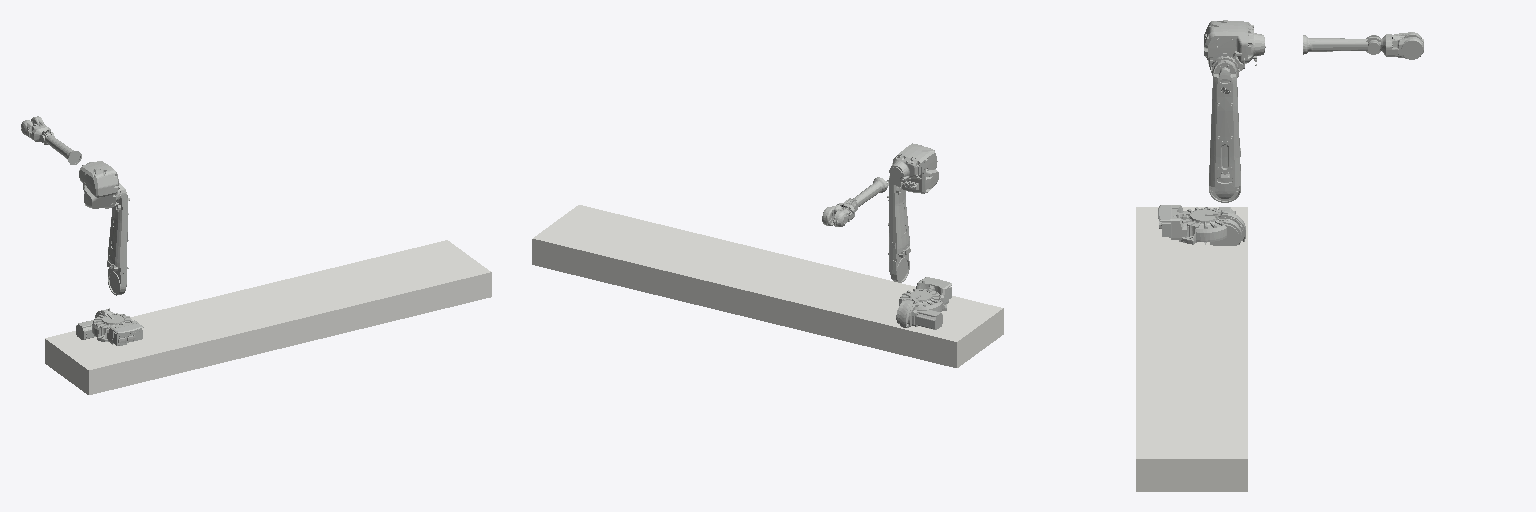
URDF robot description (abb_on_axis):
<?xml version="1.0" ?>
<!-- =================================================================================== -->
<!-- |    This document was autogenerated by xacro from abb_on_axis.xacro              | -->
<!-- |    EDITING THIS FILE BY HAND IS NOT RECOMMENDED                                 | -->
<!-- =================================================================================== -->
<robot name="abb_on_axis">
  <!-- Conversion were obtained from http://www.e-paint.co.uk/Lab_values.asp
       unless otherwise stated. -->
  <!-- Conversion were obtained from http://www.e-paint.co.uk/Lab_values.asp
       unless otherwise stated. -->
  <link name="axis">
    <inertial>
      <origin xyz="0.0 0.0 0.0"/>
      <mass value="120"/>
      <inertia ixx="-4.98000" ixy="-0.00000" ixz="2.70000" iyy="-5.95200" iyz="-0.00000" izz="0.82800"/>
    </inertial>
    <visual>
      <geometry>
        <mesh filename="package://princeton_cell/meshes/visual/axis.stl"/>
      </geometry>
      <material name="">
        <color rgba="0.9254902 0.9254902 0.9058824 1"/>
      </material>
    </visual>
    <collision>
      <geometry>
        <mesh filename="package://princeton_cell/meshes/collision/axis.stl"/>
      </geometry>
    </collision>
  </link>
  <joint name="cart_joint" type="prismatic">
    <parent link="axis"/>
    <child link="cart"/>
    <origin rpy="0 0 0 " xyz="0 0 0"/>
    <axis xyz="1 0 0"/>
    <limit effort="100000" lower="0" upper="3.9" velocity="2.618"/>
    <dynamics damping="0.2" friction="0"/>
  </joint>
  <link name="cart">
    <inertial>
      <origin xyz="0.0 0.0 0.0"/>
      <mass value="120.00000"/>
      <inertia ixx="-4.98000" ixy="-0.00000" ixz="2.70000" iyy="-5.95200" iyz="-0.00000" izz="0.82800"/>
    </inertial>
    <visual>
      <geometry>
        <mesh filename="package://princeton_cell/meshes/visual/cart.stl"/>
      </geometry>
      <material name="">
        <color rgba="0.9254902 0.9254902 0.9058824 1"/>
      </material>
    </visual>
    <collision>
      <geometry>
        <mesh filename="package://princeton_cell/meshes/collision/cart.stl"/>
      </geometry>
    </collision>
  </link>
  <joint name="abb_joint" type="fixed">
    <parent link="cart"/>
    <child link="base_link"/>
    <origin rpy="0 0 1.5707963267948966 " xyz="0 0 0 "/>
    <dynamics damping="0.2" friction="0"/>
  </joint>
  <!-- link list -->
  <link name="base_link">
    <inertial>
      <origin xyz="0.0 0.0 0.0"/>
      <mass value="120.00000"/>
      <inertia ixx="-4.98000" ixy="-0.00000" ixz="2.70000" iyy="-5.95200" iyz="-0.00000" izz="0.82800"/>
    </inertial>
    <visual>
      <geometry>
        <mesh filename="package://abb_irb4600_40_255/meshes/visual/base_link.stl"/>
      </geometry>
      <material name="">
        <color rgba="0.7725490 0.7803922 0.7686275 1"/>
      </material>
    </visual>
    <collision>
      <geometry>
        <mesh filename="package://abb_irb4600_40_255/meshes/collision/base_link.stl"/>
      </geometry>
    </collision>
  </link>
  <link name="link_1">
    <inertial>
      <origin xyz="0.18000 0.00000 0.50000"/>
      <mass value="120.00000"/>
      <inertia ixx="-4.98000" ixy="-0.00000" ixz="2.70000" iyy="-5.95200" iyz="-0.00000" izz="0.82800"/>
    </inertial>
    <visual>
      <geometry>
        <mesh filename="package://abb_irb4600_40_255/meshes/visual/link_1.stl"/>
      </geometry>
      <material name="">
        <color rgba="0.7725490 0.7803922 0.7686275 1"/>
      </material>
    </visual>
    <collision>
      <geometry>
        <mesh filename="package://abb_irb4600_40_255/meshes/collision/link_1.stl"/>
      </geometry>
    </collision>
  </link>
  <link name="link_2">
    <inertial>
      <origin xyz="0.94000 0.08000 -0.34000"/>
      <mass value="120.00000"/>
      <inertia ixx="-2.96000" ixy="2.25600" ixz="-9.58800" iyy="-18.72601" iyz="-0.81600" izz="-14.95000"/>
    </inertial>
    <visual>
      <geometry>
        <mesh filename="package://abb_irb4600_40_255/meshes/visual/link_2.stl"/>
      </geometry>
      <material name="">
        <color rgba="0.7725490 0.7803922 0.7686275 1"/>
      </material>
    </visual>
    <collision>
      <geometry>
        <mesh filename="package://abb_irb4600_40_255/meshes/collision/link_2.stl"/>
      </geometry>
    </collision>
  </link>
  <link name="link_3">
    <inertial>
      <origin xyz="0.07000 -0.26600 0.08800"/>
      <mass value="120.00000"/>
      <inertia ixx="1.34500" ixy="-0.55860" ixz="0.18480" iyy="4.65068" iyz="-0.70224" izz="2.76032"/>
    </inertial>
    <visual>
      <geometry>
        <mesh filename="package://abb_irb4600_40_255/meshes/visual/link_3.stl"/>
      </geometry>
      <material name="">
        <color rgba="0.7725490 0.7803922 0.7686275 1"/>
      </material>
    </visual>
    <collision>
      <geometry>
        <mesh filename="package://abb_irb4600_40_255/meshes/collision/link_3.stl"/>
      </geometry>
    </collision>
  </link>
  <link name="link_4">
    <inertial>
      <origin xyz="0.00000 0.00000 1.00000"/>
      <mass value="40.00000"/>
      <inertia ixx="-8.00000" ixy="-0.00000" ixz="-0.00000" iyy="-8.00000" iyz="-0.00000" izz="0.48200"/>
    </inertial>
    <visual>
      <geometry>
        <mesh filename="package://abb_irb4600_40_255/meshes/visual/link_4.stl"/>
      </geometry>
      <material name="">
        <color rgba="0.7725490 0.7803922 0.7686275 1"/>
      </material>
    </visual>
    <collision>
      <geometry>
        <mesh filename="package://abb_irb4600_40_255/meshes/collision/link_4.stl"/>
      </geometry>
    </collision>
  </link>
  <link name="link_5">
    <inertial>
      <origin xyz="0.14000 0.00000 0.00000"/>
      <mass value="10.00000"/>
      <inertia ixx="0.04000" ixy="-0.00000" ixz="-0.00000" iyy="-0.00900" iyz="-0.00000" izz="-0.00400"/>
    </inertial>
    <visual>
      <geometry>
        <mesh filename="package://abb_irb4600_40_255/meshes/visual/link_5.stl"/>
      </geometry>
      <material name="">
        <color rgba="0.7725490 0.7803922 0.7686275 1"/>
      </material>
    </visual>
    <collision>
      <geometry>
        <mesh filename="package://abb_irb4600_40_255/meshes/collision/link_5.stl"/>
      </geometry>
    </collision>
  </link>
  <link name="link_6">
    <inertial>
      <origin xyz="0.08100 -0.09100 0.33200"/>
      <mass value="5.00000"/>
      <inertia ixx="-0.29652" ixy="-0.03686" ixz="0.09396" iyy="-0.28792" iyz="-0.10556" izz="-0.04621"/>
    </inertial>
    <visual>
      <geometry>
        <mesh filename="package://abb_irb4600_40_255/meshes/visual/link_6.stl"/>
      </geometry>
      <material name="">
        <color rgba="0.1882353 0.1960784 0.2039216 1"/>
      </material>
    </visual>
    <collision>
      <geometry>
        <mesh filename="package://abb_irb4600_40_255/meshes/collision/link_6.stl"/>
      </geometry>
    </collision>
  </link>
  <link name="tool0"/>
  <!-- end of link list -->
  <!-- joint list -->
  <joint name="joint_1" type="revolute">
    <parent link="base_link"/>
    <child link="link_1"/>
    <origin rpy="0 0 0 " xyz="0 0 0"/>
    <axis xyz="0 0 1"/>
    <limit effort="100000" lower="-3.14159" upper="3.14159" velocity="2.618"/>
    <dynamics damping="0.2" friction="0"/>
  </joint>
  <joint name="joint_2" type="revolute">
    <parent link="link_1"/>
    <child link="link_2"/>
    <origin rpy="0 -0 0 " xyz="0.175 0 0.495"/>
    <axis xyz="0 1 0"/>
    <limit effort="100000" lower="-1.5708" upper="2.61799" velocity="2.618"/>
    <dynamics damping="0.2" friction="0"/>
  </joint>
  <joint name="joint_3" type="revolute">
    <parent link="link_2"/>
    <child link="link_3"/>
    <origin rpy="0 -0 0 " xyz="0 0 1.095"/>
    <axis xyz="0 1 0"/>
    <limit effort="100000" lower="-3.14159" upper="1.309" velocity="2.618"/>
    <dynamics damping="0.2" friction="0"/>
  </joint>
  <joint name="joint_4" type="revolute">
    <parent link="link_3"/>
    <child link="link_4"/>
    <origin rpy="0 -0 0 " xyz="0.332 0 0.175"/>
    <axis xyz="1 0 0"/>
    <limit effort="10000" lower="-6.98132" upper="6.98132" velocity="6.2832"/>
    <dynamics damping="0.2" friction="0"/>
  </joint>
  <joint name="joint_5" type="revolute">
    <parent link="link_4"/>
    <child link="link_5"/>
    <origin rpy="0 -0 0 " xyz="0.939 0 0"/>
    <axis xyz="0 1 0"/>
    <limit effort="100000" lower="-2.18166" upper="2.0944" velocity="6.2832"/>
    <dynamics damping="0.2" friction="0"/>
  </joint>
  <joint name="joint_6" type="revolute">
    <parent link="link_5"/>
    <child link="link_6"/>
    <origin rpy="0 1.57076 0 " xyz="0.135 0 0"/>
    <axis xyz="0 0 1"/>
    <limit effort="100000" lower="-6.98132" upper="6.98132" velocity="7.854"/>
    <dynamics damping="0.2" friction="0"/>
  </joint>
  <joint name="joint_6-tool0" type="fixed">
    <parent link="link_6"/>
    <child link="tool0"/>
    <origin rpy="0 0 0" xyz="0 0 0"/>
  </joint>
  <!-- end of joint list -->
  <!-- ROS base_link to ABB World Coordinates transform -->
  <link name="base"/>
  <joint name="base_link-base" type="fixed">
    <origin rpy="0 0 0" xyz="0 0 0"/>
    <parent link="base_link"/>
    <child link="base"/>
  </joint>
  <!-- Create a fixed joint with a parameterized name. -->
  <joint name="gripper_joint" type="fixed">
    <!-- The parent link must be read from the robot model it is attached to. -->
    <parent link="tool0"/>
    <child link="gripper"/>
    <!-- The tool is directly attached to the flange. -->
    <origin rpy="0 0 0" xyz="0 0 0"/>
  </joint>
  <link name="gripper">
    <visual>
      <geometry>
        <!-- The path to the visual meshes in the package. -->
        <mesh filename="package://princeton_cell/meshes/visual/gripper.stl"/>
      </geometry>
    </visual>
    <collision>
      <geometry>
        <!-- The path to the collision meshes in the package. -->
        <mesh filename="package://princeton_cell/meshes/collision/gripper.stl"/>
      </geometry>
    </collision>
  </link>
  <!-- TCP frame -->
  <joint name="tcp_joint" type="fixed">
    <origin rpy="0 0 0" xyz="0 0 0.352"/>
    <parent link="gripper"/>
    <child link="tcp"/>
  </joint>
  <link name="tcp"/>
</robot>

--- Facts derived from the render (not from the file) ---
3 views of the same robot in one strip: view 1: azimuth 30°, elevation 25°; view 2: azimuth 150°, elevation 25°; view 3: azimuth 270°, elevation 25° (orthographic).
Robot: abb_on_axis — 13 links, 12 joints (6 revolute, 1 prismatic, 5 fixed); root link axis; default pose: all joints at 0.
Links seen in each view (by area): view 1: axis, link_2, link_3, base_link, link_4; view 2: axis, link_3, link_2, base_link, link_4, link_1; view 3: axis, link_2, link_3, base_link, link_4, link_1.
Link boxes in pixels (left/top/right/bottom): axis: left=45, top=240, right=491, bottom=394; link_2: left=107, top=183, right=129, bottom=295; link_3: left=79, top=161, right=120, bottom=208; base_link: left=92, top=313, right=143, bottom=344; link_4: left=21, top=116, right=81, bottom=164; axis: left=532, top=205, right=1003, bottom=367; link_3: left=889, top=143, right=938, bottom=193; link_2: left=886, top=176, right=910, bottom=282; base_link: left=899, top=277, right=951, bottom=317; link_4: left=822, top=177, right=887, bottom=226; link_1: left=896, top=295, right=942, bottom=329; axis: left=1136, top=207, right=1247, bottom=491; link_2: left=1209, top=60, right=1240, bottom=202; link_3: left=1204, top=20, right=1265, bottom=77; base_link: left=1158, top=205, right=1227, bottom=244; link_4: left=1303, top=32, right=1423, bottom=59; link_1: left=1179, top=207, right=1245, bottom=245.
Bounding box of the posed robot: 5.09 × 2.47 × 2.3 m (x, y, z).
8 mesh visuals loaded from 10 distinct referenced files (8 binary STL); not drawn: 2 (reference not matched to a file when rendering).